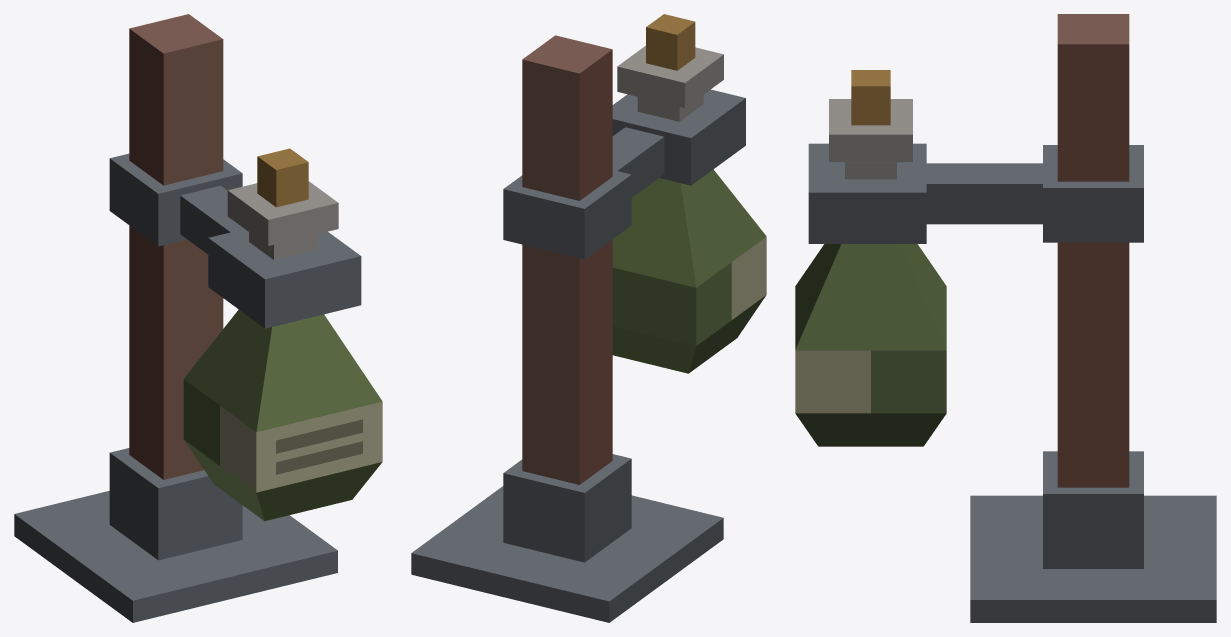
The model's file is SD_Prop_PotionBrew_01.fbx.
3 views of the same model, side by side, from view 1: azimuth 30°, elevation 25°; view 2: azimuth 150°, elevation 25°; view 3: azimuth 270°, elevation 25° (orthographic). The views are drawn at different scales.
Visible parts, largest first — view 1: SD_Prop_PotionBrew_01; view 2: SD_Prop_PotionBrew_01; view 3: SD_Prop_PotionBrew_01.
Part boxes in pixels (x1,y1,x2,y2): SD_Prop_PotionBrew_01: (14, 14, 382, 622); SD_Prop_PotionBrew_01: (411, 14, 766, 622); SD_Prop_PotionBrew_01: (795, 14, 1216, 622).
Bounding box in the file's own units: 0.6439 × 1.56 × 1.1.
